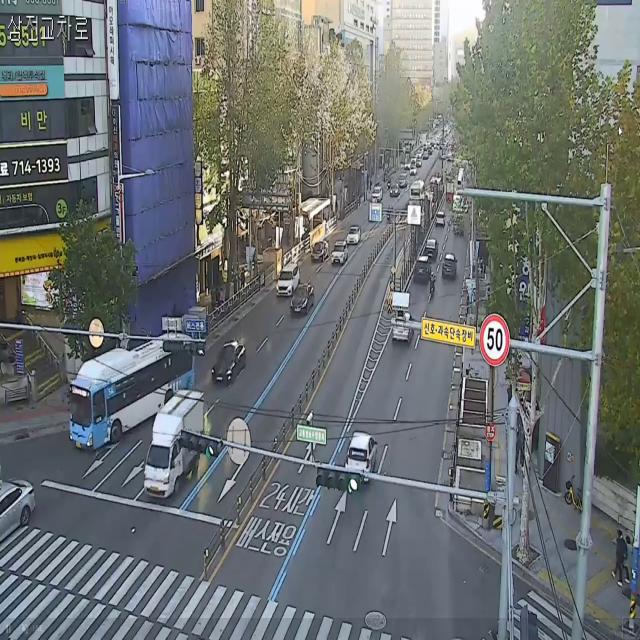car: (69, 313, 199, 445), (409, 177, 425, 210)
motorcycle: (345, 424, 378, 488), (211, 335, 245, 384), (291, 276, 312, 316), (276, 264, 300, 296), (413, 253, 432, 284), (330, 238, 348, 268), (442, 251, 457, 283), (310, 238, 328, 263), (345, 222, 361, 245), (425, 237, 438, 261), (436, 210, 445, 230)
truck: (142, 387, 207, 500)
